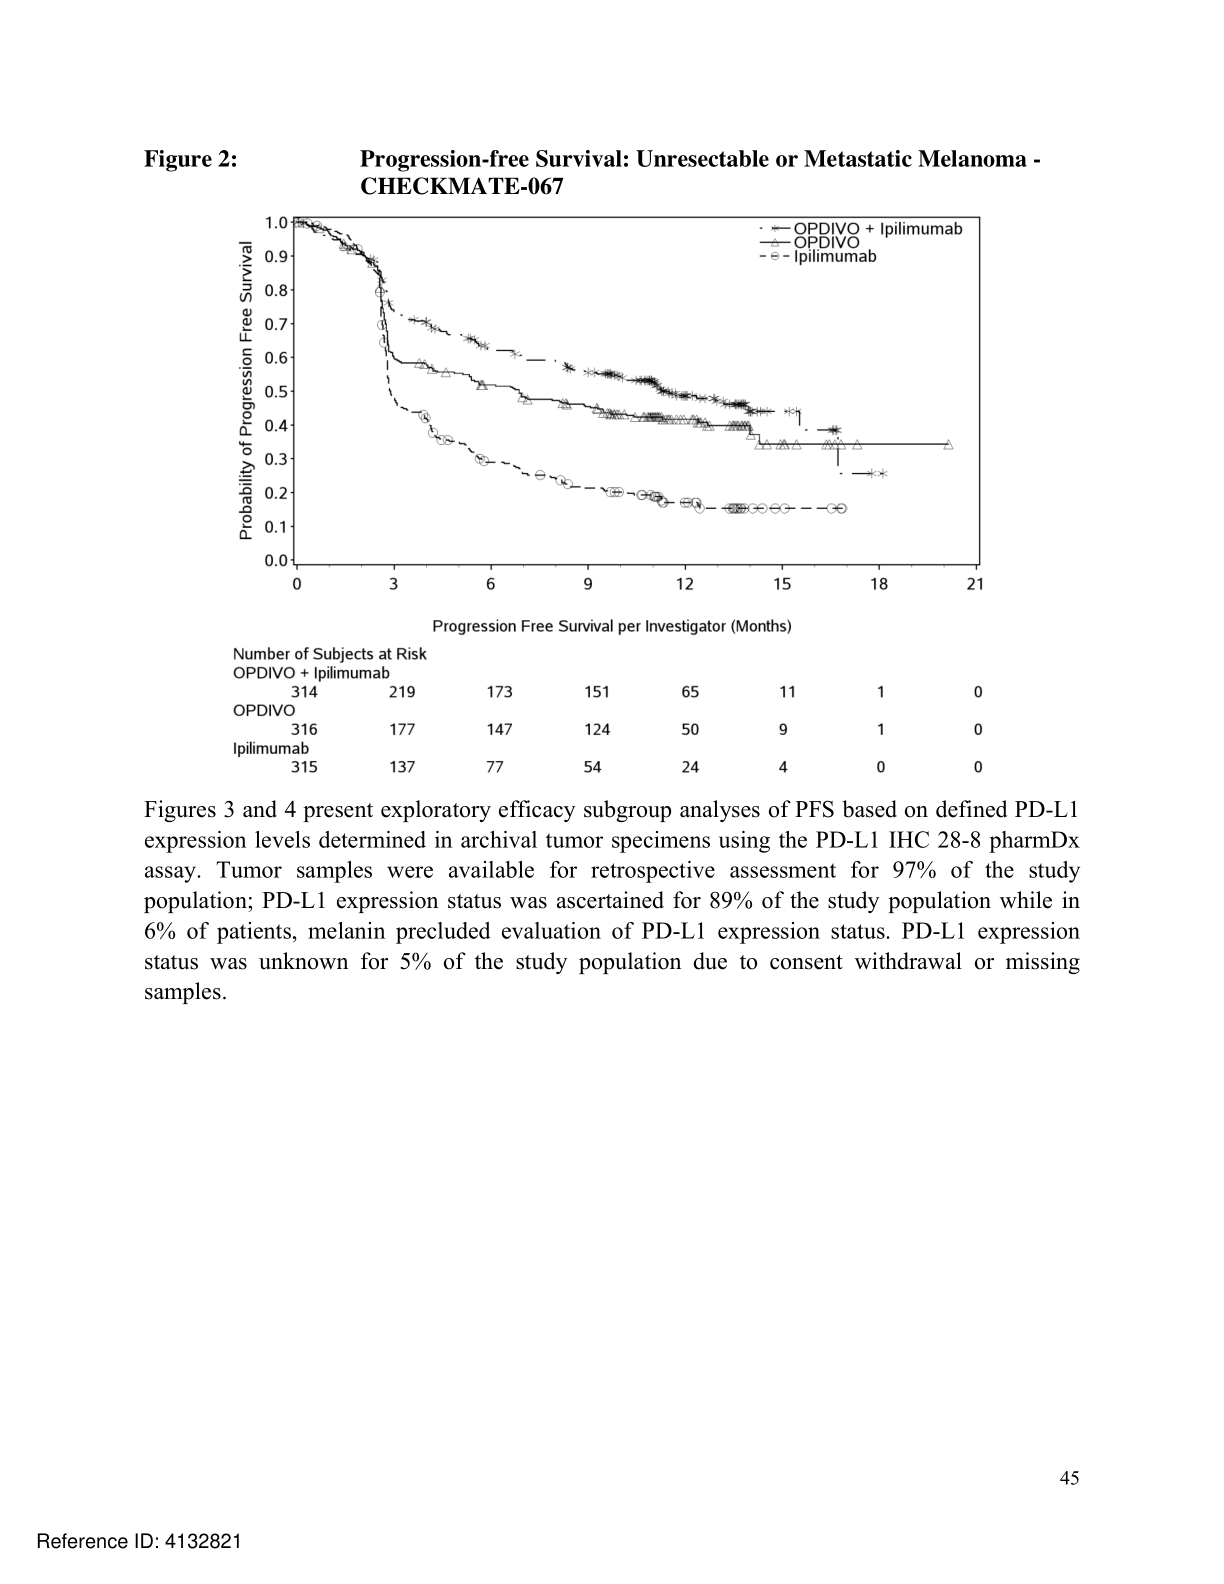nolines: (229, 663, 987, 777)
